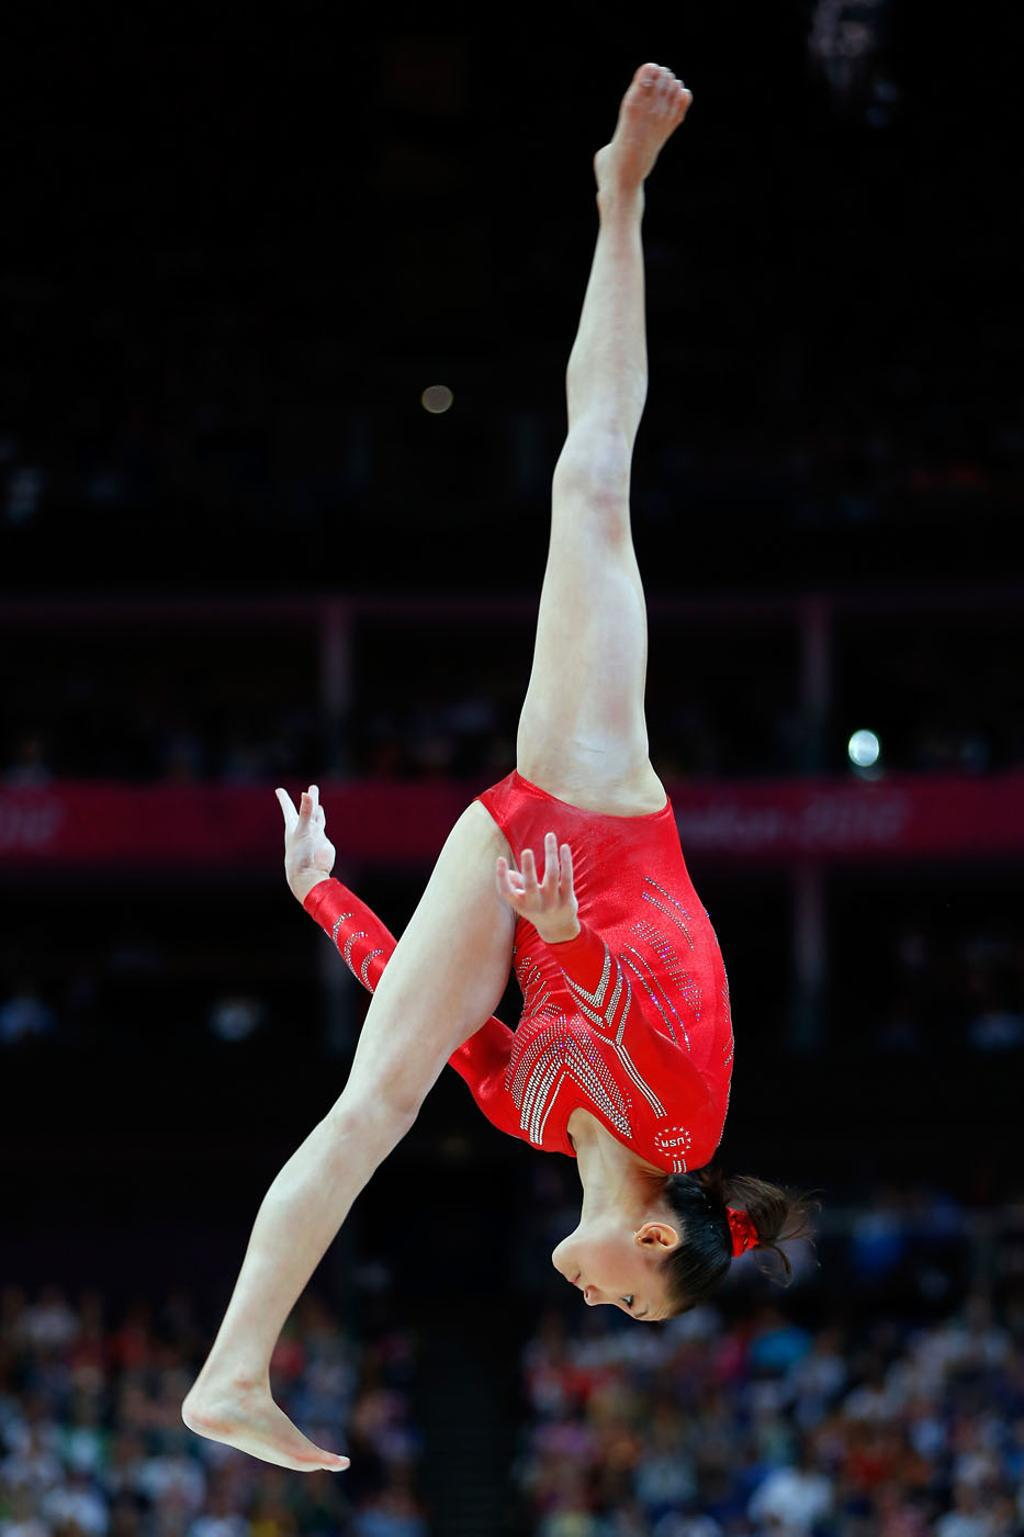face: (548, 1229, 689, 1334)
